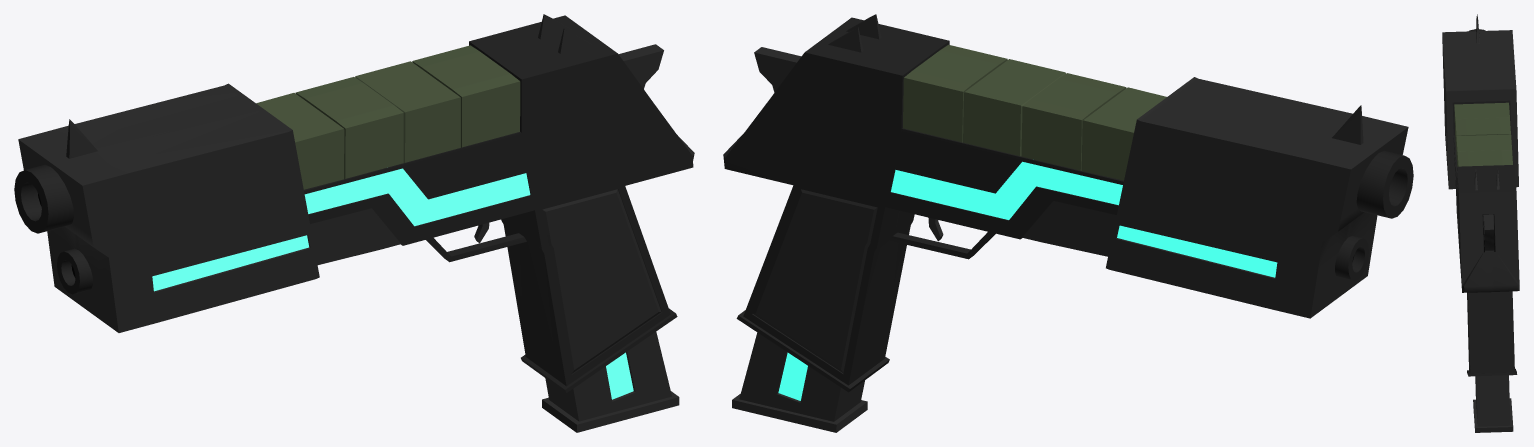
The model's file is blaster.gltf.
3 renders of one model, left to right at view 1: azimuth 30°, elevation 25°; view 2: azimuth 150°, elevation 25°; view 3: azimuth 270°, elevation 25°, orthographic. The views are drawn at different scales.
Parts seen in each view (by area): view 1: polySurface9; view 2: polySurface9; view 3: polySurface9.
Boxes of the visible parts, x1,y1,x2,y2 form: polySurface9: (14,14,694,432); polySurface9: (723,14,1413,432); polySurface9: (1442,14,1519,432).
Size of the model in its own units: 0.2703 by 0.1721 by 0.0486.
